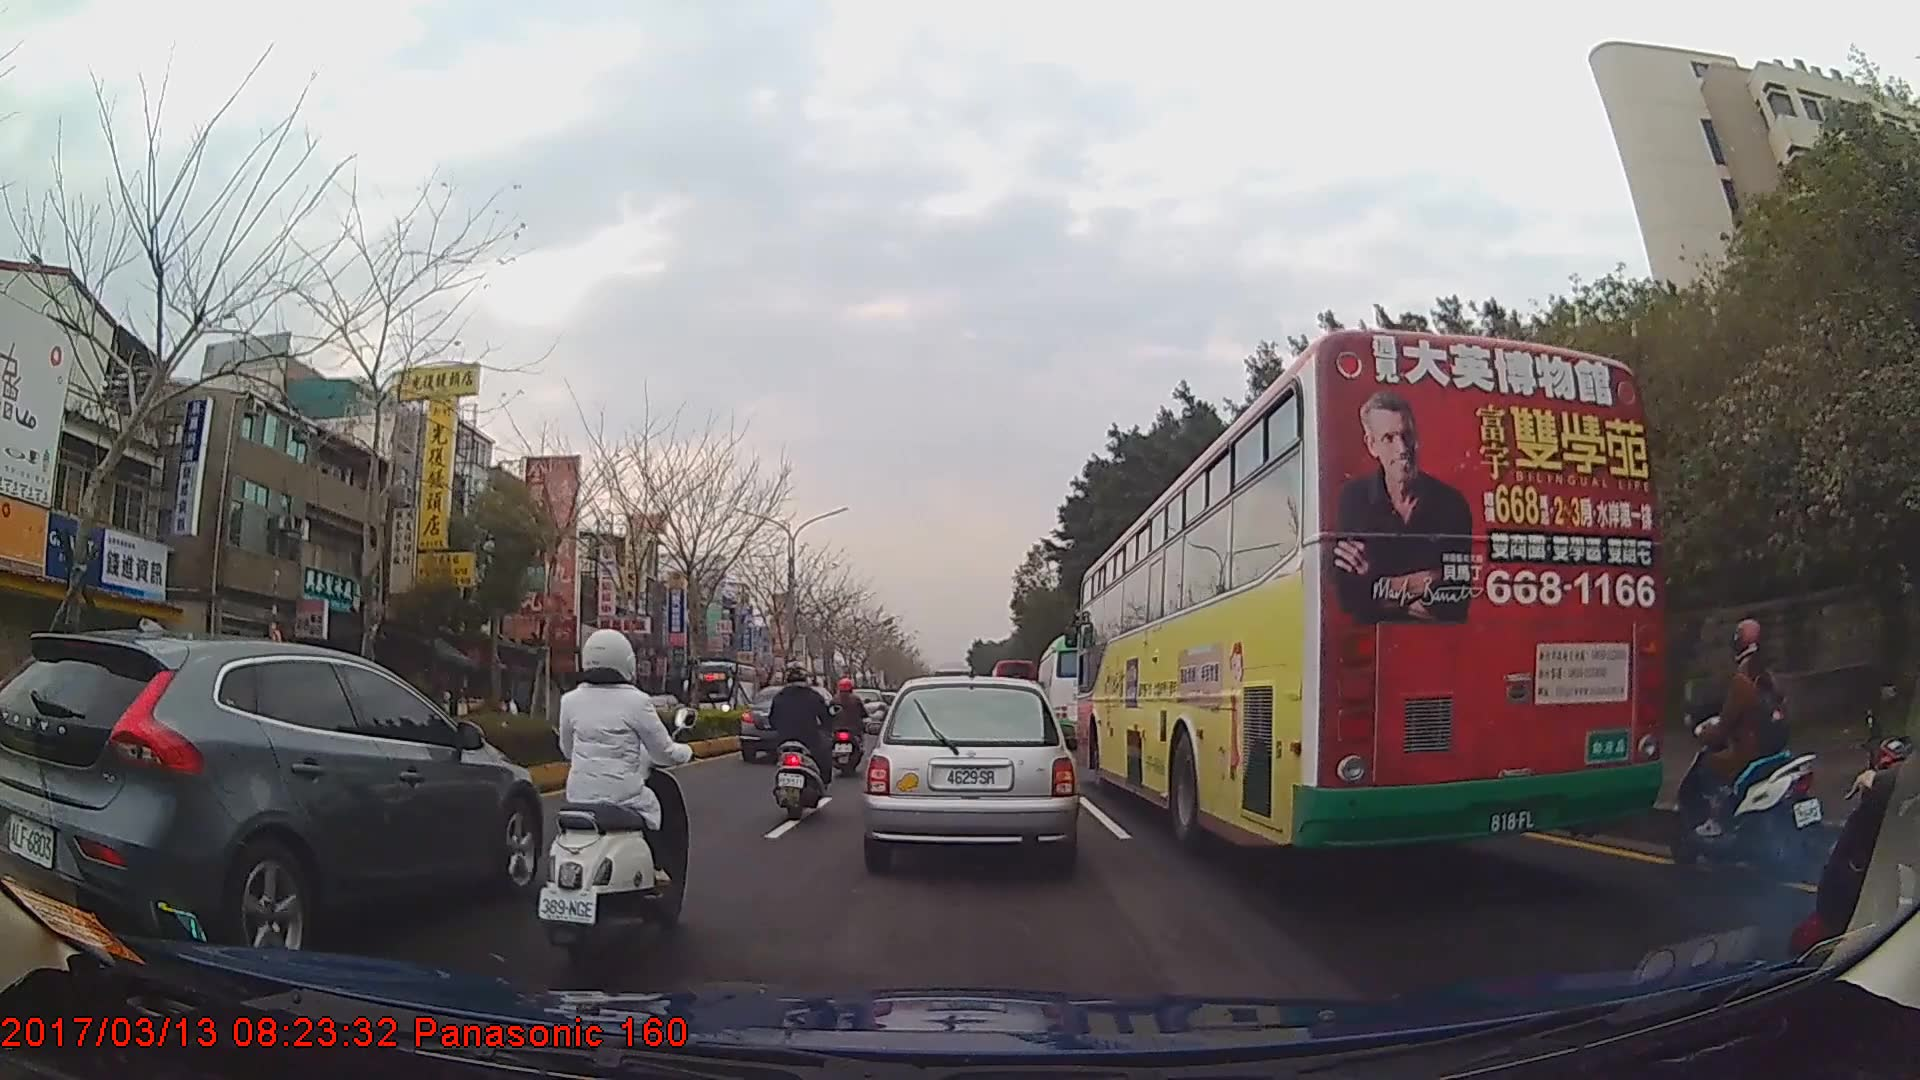rider: (1787, 543, 1920, 1023), (540, 627, 701, 981), (1678, 613, 1821, 872), (765, 664, 831, 819), (828, 679, 869, 772)
vehicle: (1076, 326, 1665, 859), (0, 628, 553, 967), (861, 674, 1077, 873), (1038, 632, 1124, 749), (739, 683, 841, 760), (691, 660, 757, 726)
